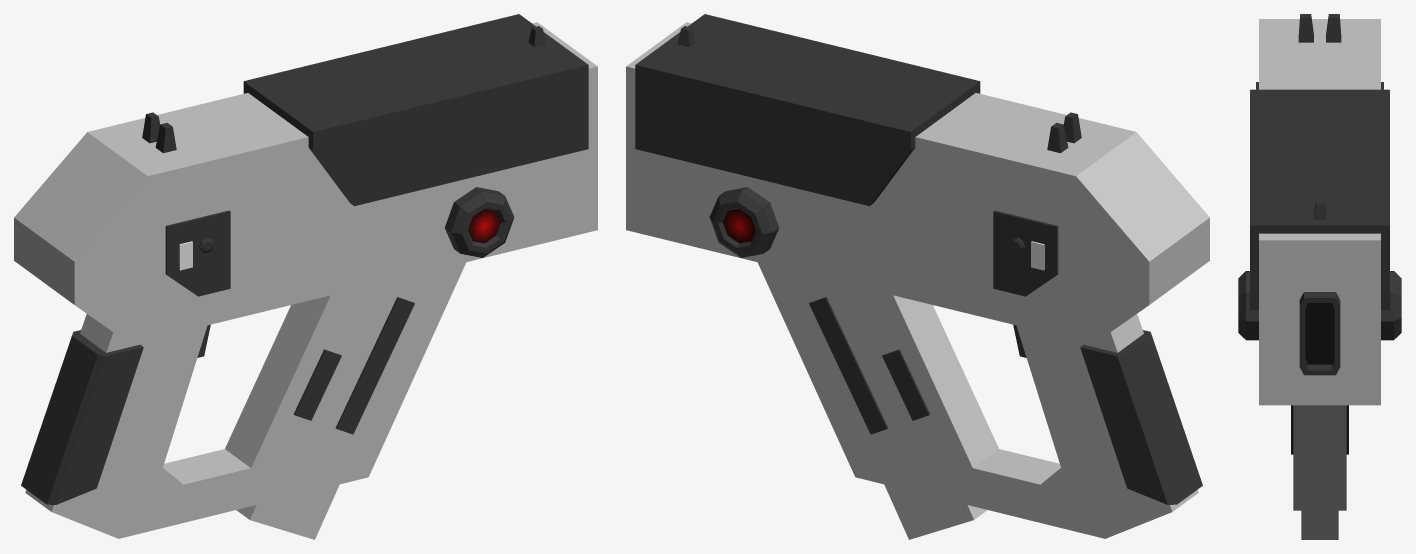
Rendered from Handgun_A_V4.FBX.
3 renders of one model, left to right at view 1: azimuth 30°, elevation 25°; view 2: azimuth 150°, elevation 25°; view 3: azimuth 270°, elevation 25°, orthographic.
Parts seen in each view (by area): view 1: Handgun_A_V4, Magazine; view 2: Handgun_A_V4, Magazine; view 3: Handgun_A_V4, Magazine.
Part boxes in pixels (<box>): Handgun_A_V4: <box>14,14,597,538</box>; Magazine: <box>236,484,339,539</box>; Handgun_A_V4: <box>626,14,1209,538</box>; Magazine: <box>884,484,987,539</box>; Handgun_A_V4: <box>1238,14,1401,510</box>; Magazine: <box>1301,510,1338,539</box>.
Bounding box in the file's own units: 130 × 102 × 33.33.
